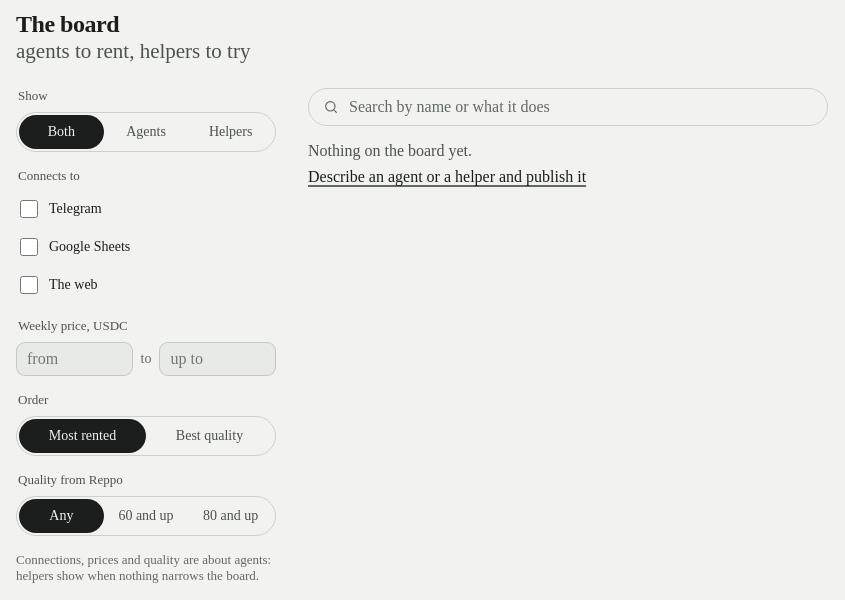
Test: the board › says when nothing is on the board, or nothing matches
Expected: the text "Nothing on the board yet." is shown, [308,142,472,160]
Type "zzz" into the search field named "Search the board". click: (580, 107)
box: [347,97,813,117]
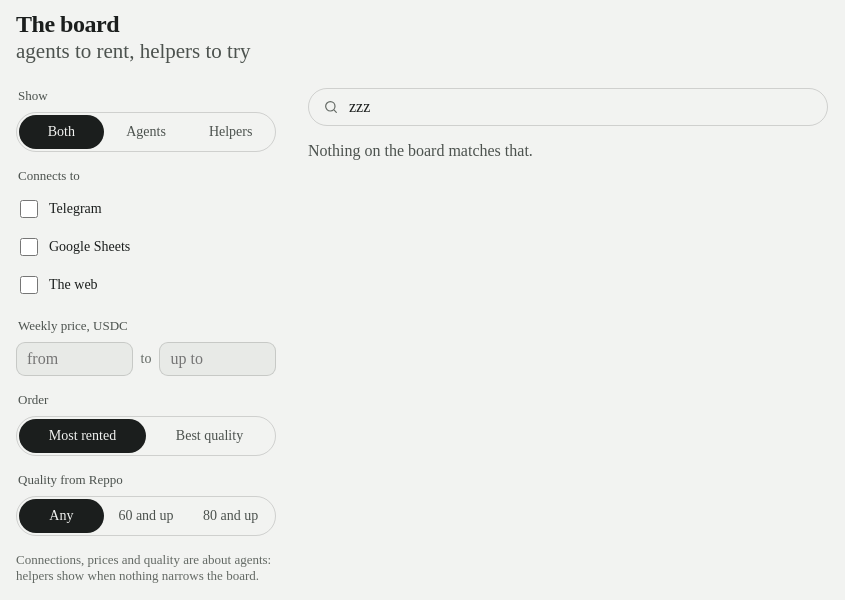
Now the text "Nothing on the board matches that." is shown, box [308,142,533,160]
